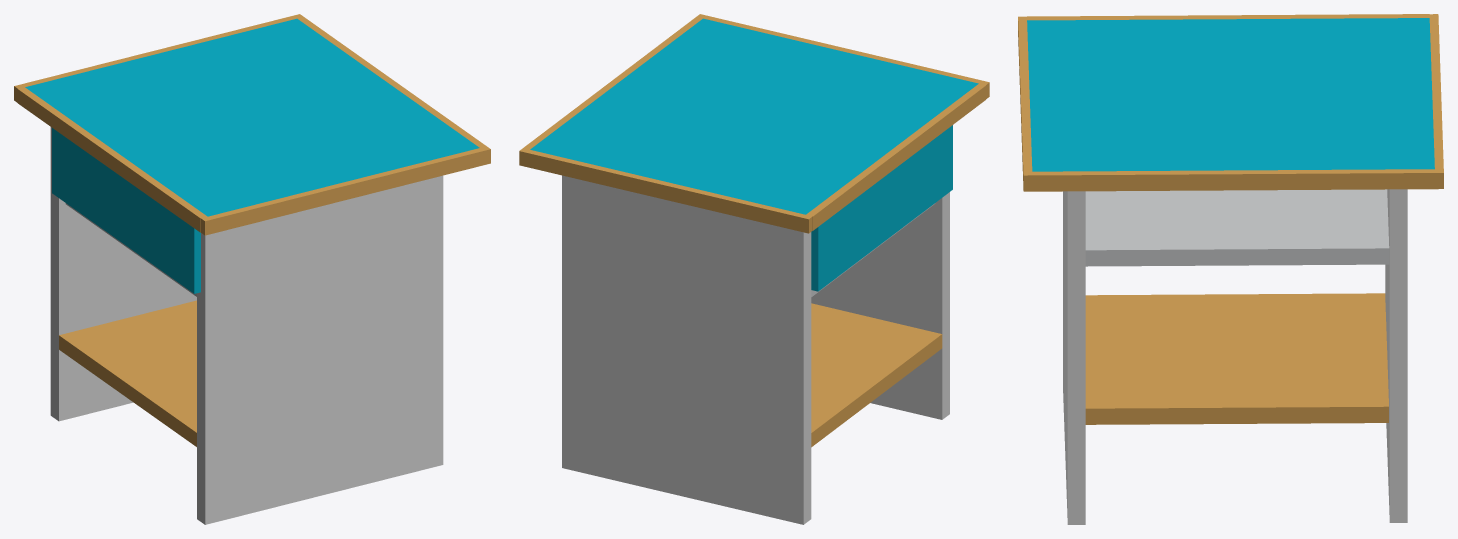
File: estante.glb
3 renders of one model, left to right at view 1: azimuth 30°, elevation 25°; view 2: azimuth 150°, elevation 25°; view 3: azimuth 270°, elevation 25°, orthographic. The views are drawn at different scales.
Parts seen in each view (by area): view 1: Mesh_Mesh_head_geo.001_lambert2SG.001; view 2: Mesh_Mesh_head_geo.001_lambert2SG.001; view 3: Mesh_Mesh_head_geo.001_lambert2SG.001.
Part boxes in pixels (left/top/right/bottom): Mesh_Mesh_head_geo.001_lambert2SG.001: left=14, top=14, right=490, bottom=524; Mesh_Mesh_head_geo.001_lambert2SG.001: left=519, top=14, right=989, bottom=524; Mesh_Mesh_head_geo.001_lambert2SG.001: left=1018, top=14, right=1443, bottom=524.
Bounding box in the file's own units: 1.08 × 1.13 × 1.2.
